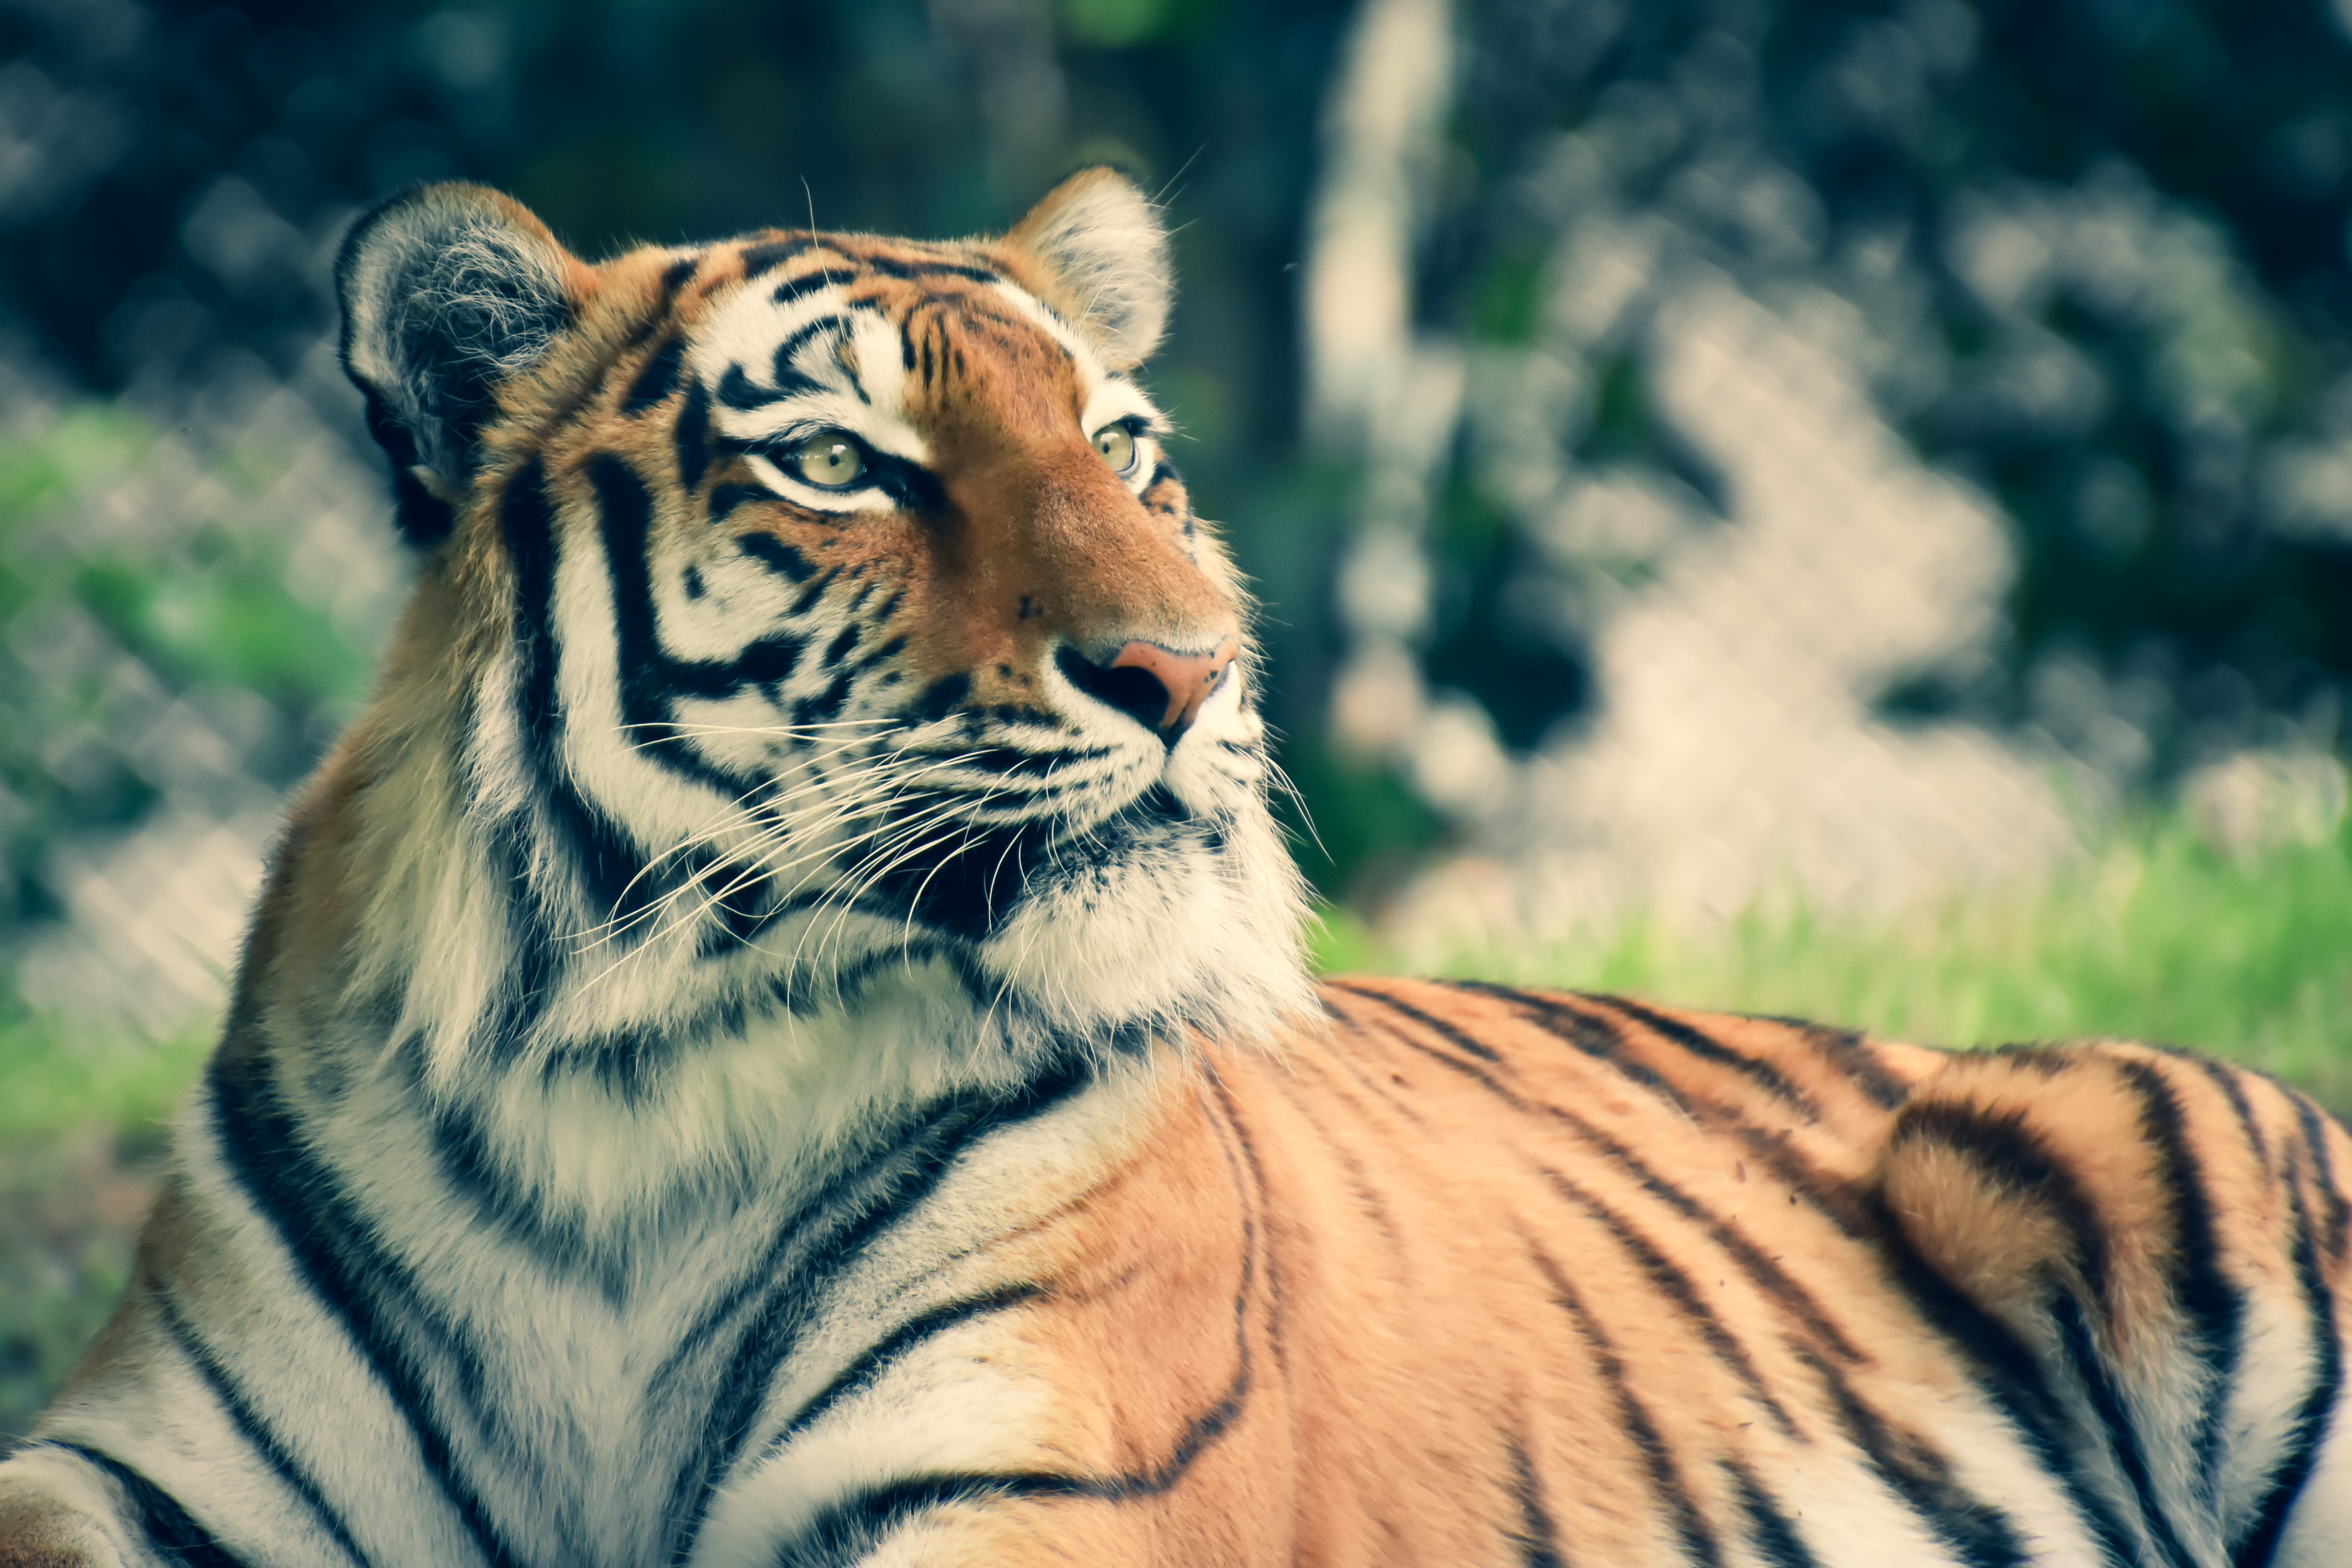tiger: (224, 182, 2289, 1529)
